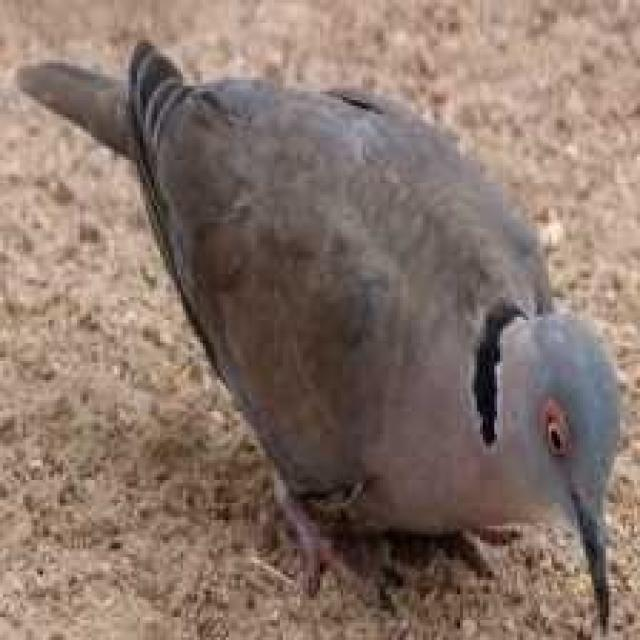dove: (12, 26, 626, 630)
